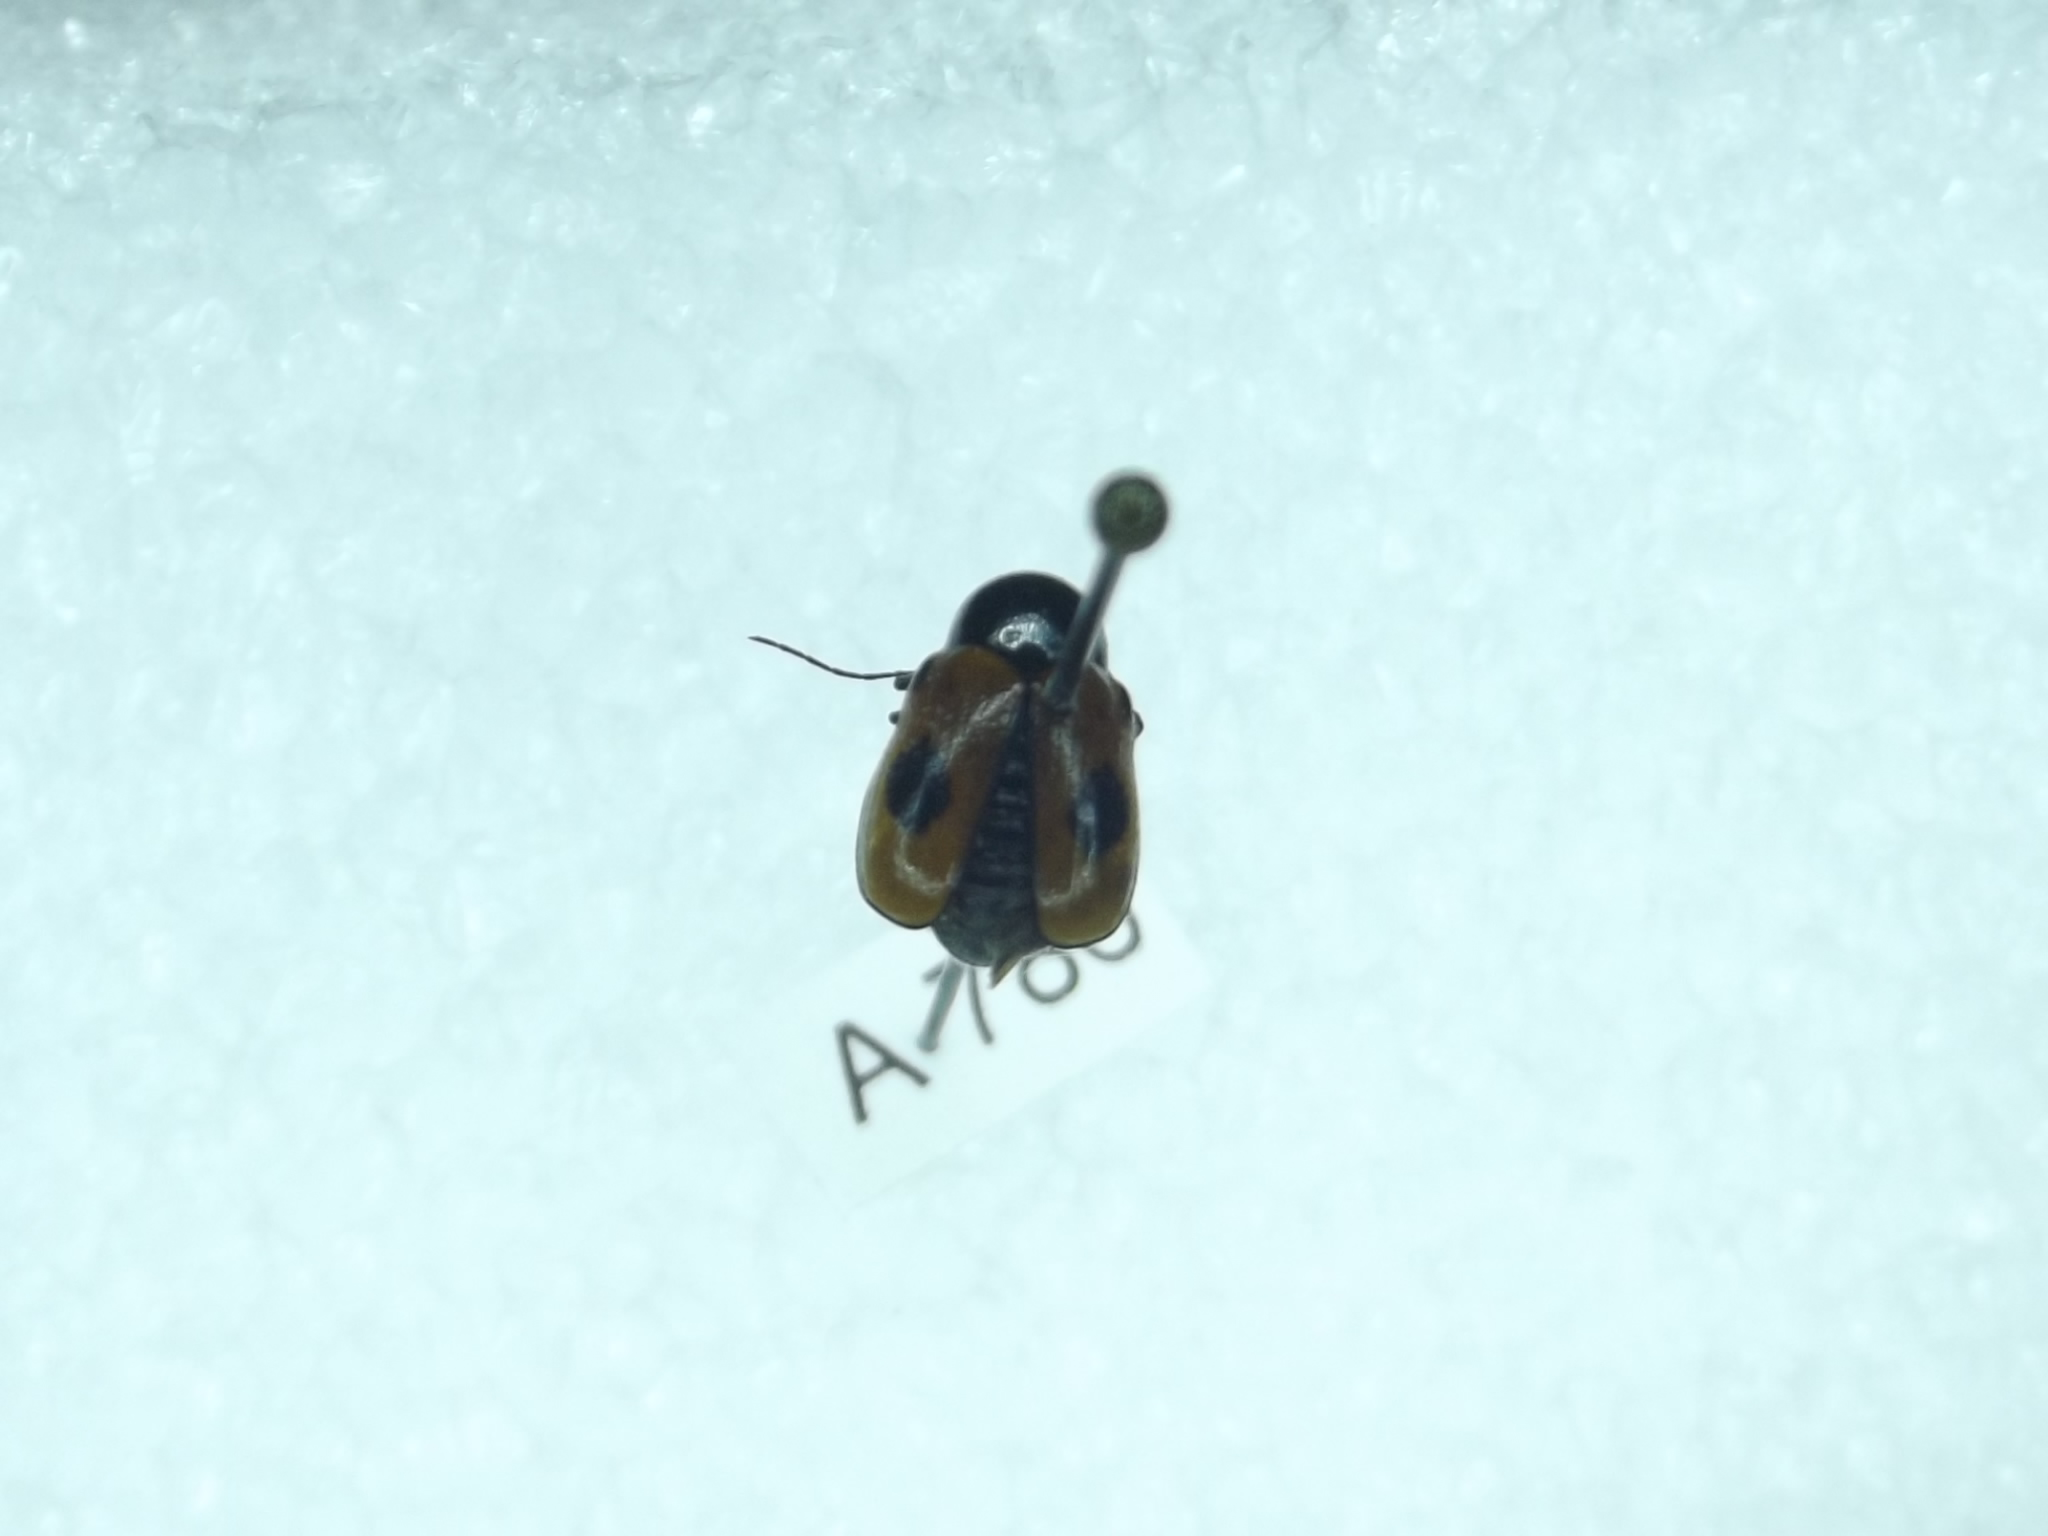Cryptocephalus_bipunctatus: (745, 573, 1153, 987)
